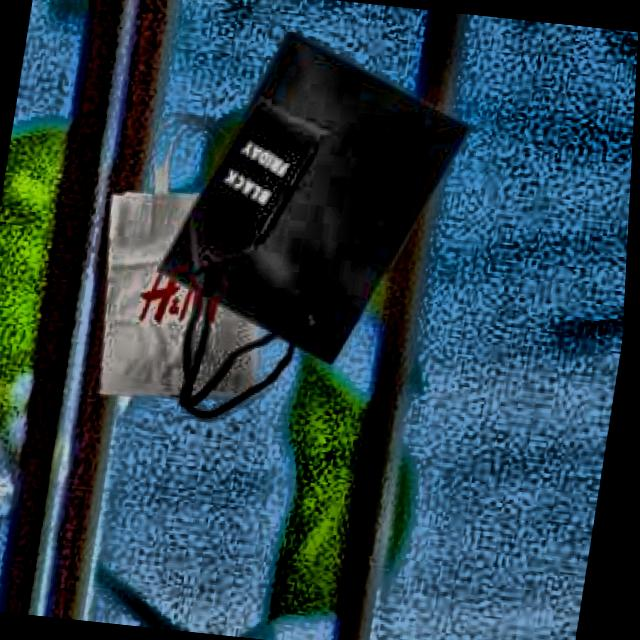Paper-bag: (147, 22, 479, 440), (82, 112, 307, 416)
